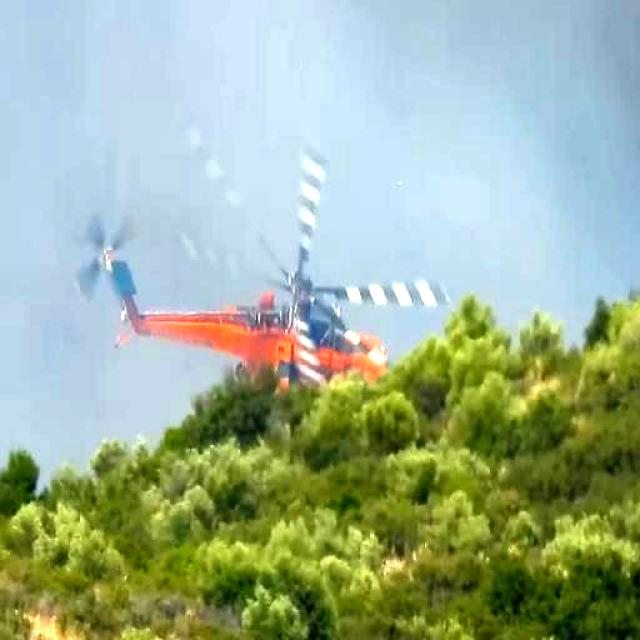drone: (84, 185, 442, 385)
